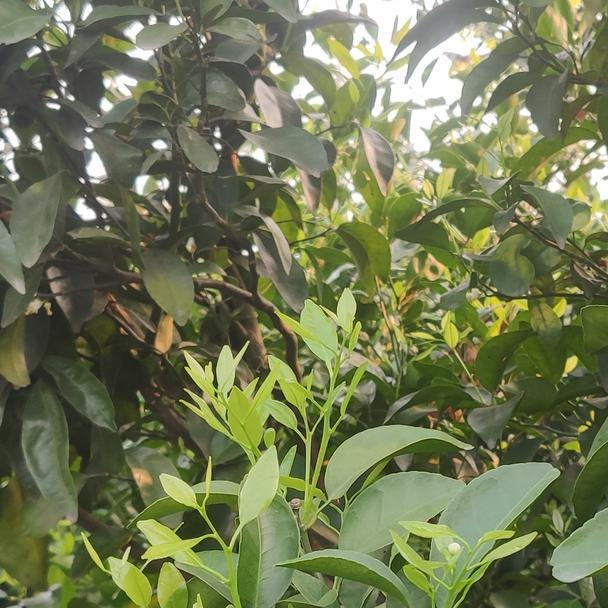shoot: (153, 446, 286, 604), (286, 294, 383, 467), (400, 515, 533, 608), (182, 352, 280, 462)
